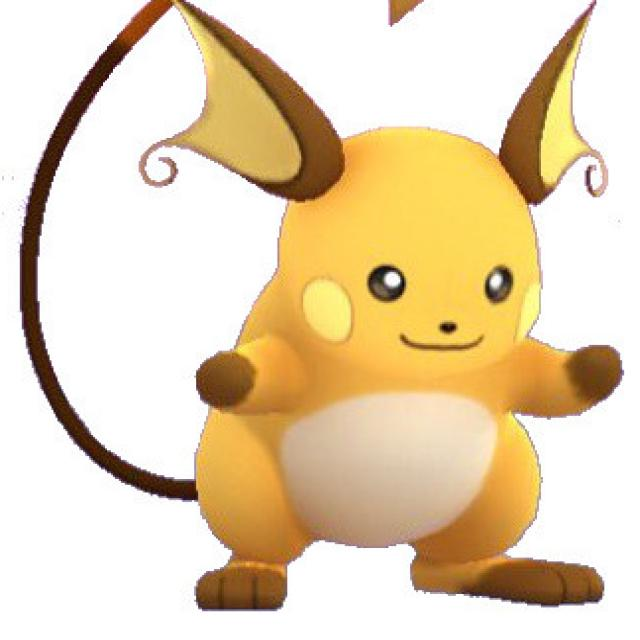Raichu: (188, 0, 596, 604)
